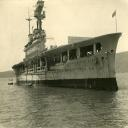Portanaves: (12, 1, 124, 93)
